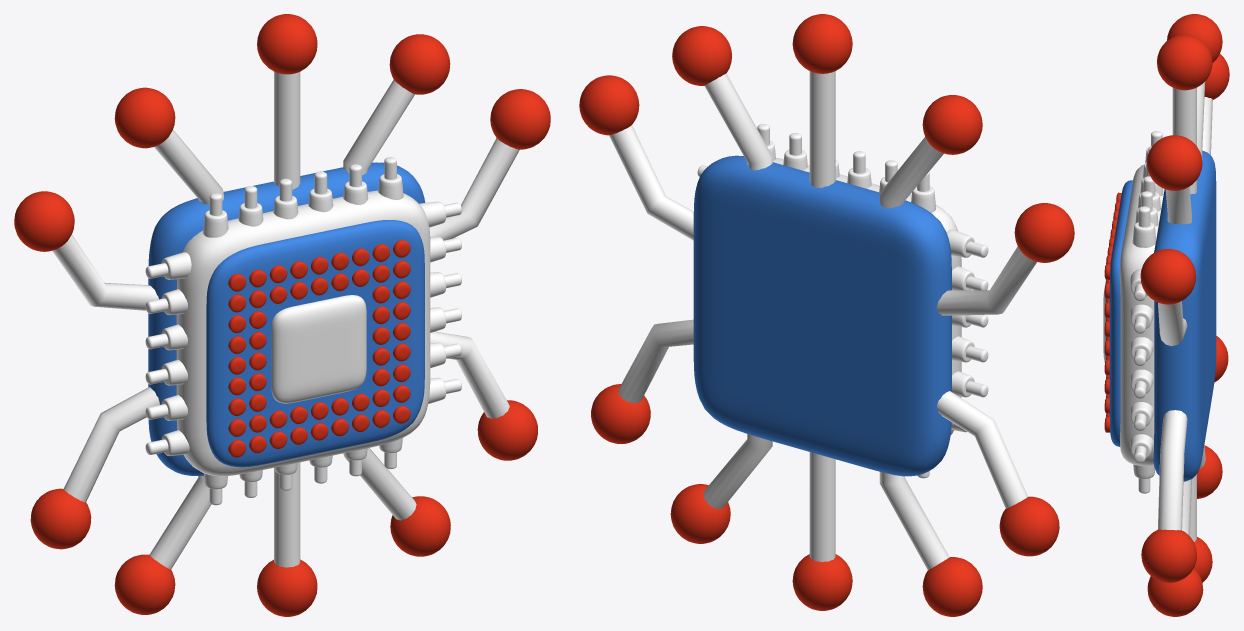
The model's file is microchip-3d-animated-icon-665624131267.glb.
The picture shows the model from 3 angles, left to right: view 1: azimuth 30°, elevation 25°; view 2: azimuth 150°, elevation 25°; view 3: azimuth 270°, elevation 25°; orthographic projection. The views are drawn at different scales.
Visible parts, largest first — view 1: Plane.009, Plane.008, Cylinder.053, Point.003, Point.019, Point.015, Point.017, Sphere.012, Sphere.013, Sphere.016, Sphere.014, Sphere.015 (+11 smaller); view 2: Cylinder.053, Plane.009, Point.003, Point.017, Point.019, Sphere.013, Sphere.012, Sphere.016, Point.014, Sphere.014, Point.015, Sphere.008 (+10 smaller); view 3: Cylinder.053, Plane.009, Point.012, Plane.008, Sphere.016, Sphere.014, Sphere.015, Sphere.009, Sphere.010, Point.019, Sphere.013, Point.017 (+9 smaller).
Boxes of the visible parts, left/top/right/bottom form: Plane.009: left=145, top=157, right=461, bottom=505; Plane.008: left=206, top=220, right=424, bottom=467; Cylinder.053: left=148, top=162, right=425, bottom=475; Point.003: left=63, top=387, right=159, bottom=502; Point.019: left=274, top=71, right=300, bottom=189; Point.015: left=52, top=234, right=158, bottom=310; Point.017: left=429, top=138, right=519, bottom=240; Sphere.012: left=14, top=191, right=74, bottom=251; Sphere.013: left=114, top=87, right=175, bottom=148; Sphere.016: left=257, top=14, right=317, bottom=74; Sphere.014: left=490, top=89, right=550, bottom=149; Sphere.015: left=389, top=34, right=450, bottom=94; Cylinder.053: left=693, top=155, right=951, bottom=476; Plane.009: left=697, top=124, right=988, bottom=478; Point.003: left=936, top=391, right=1027, bottom=508; Point.017: left=609, top=125, right=693, bottom=240; Point.019: left=809, top=71, right=835, bottom=187; Sphere.013: left=922, top=95, right=982, bottom=154; Sphere.012: left=1014, top=203, right=1074, bottom=262; Sphere.016: left=792, top=14, right=852, bottom=73; Point.014: left=809, top=452, right=835, bottom=561; Sphere.014: left=579, top=75, right=639, bottom=135; Point.015: left=936, top=246, right=1036, bottom=315; Sphere.008: left=922, top=557, right=982, bottom=616; Cylinder.053: left=1104, top=150, right=1216, bottom=481; Plane.009: left=1103, top=131, right=1164, bottom=493; Point.012: left=1158, top=410, right=1187, bottom=530; Plane.008: left=1109, top=180, right=1132, bottom=446; Sphere.016: left=1157, top=34, right=1212, bottom=90; Sphere.014: left=1140, top=248, right=1196, bottom=304; Sphere.015: left=1146, top=135, right=1202, bottom=190; Sphere.009: left=1141, top=529, right=1196, bottom=582; Sphere.010: left=1147, top=568, right=1203, bottom=616; Point.019: left=1172, top=87, right=1196, bottom=194; Sphere.013: left=1167, top=14, right=1222, bottom=62; Point.017: left=1158, top=301, right=1187, bottom=346.
Bounding box in the file's own units: 9.87 × 11.04 × 2.3.
